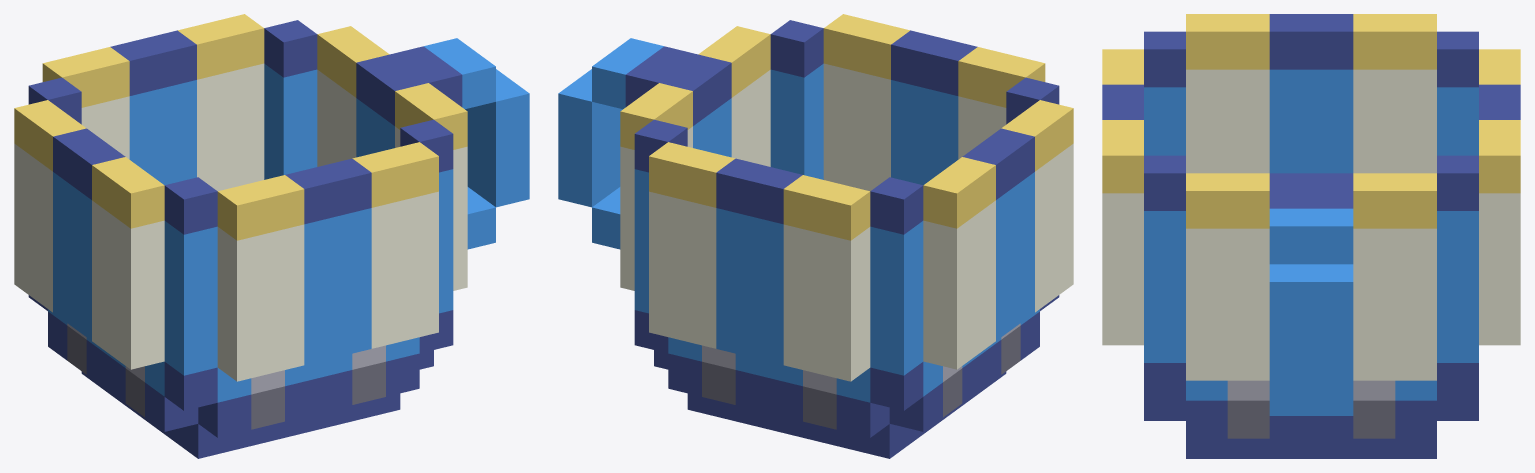
The model's file is Cup.obj.
3 views of the same model, side by side, from view 1: azimuth 30°, elevation 25°; view 2: azimuth 150°, elevation 25°; view 3: azimuth 270°, elevation 25° (orthographic). The views are drawn at different scales.
Size of the model in its own units: 1.3 by 0.8 by 1.
Materials: 1 (1 with a texture image).
